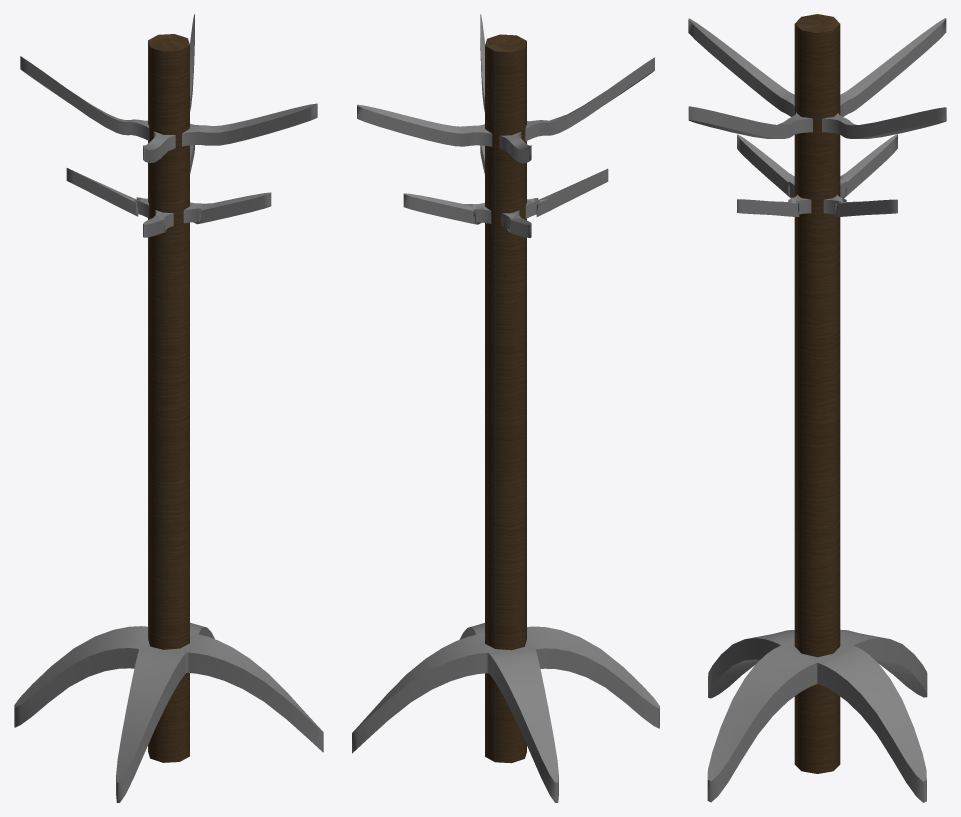
The model's file is Coat rack - Classy.FBX.
The picture shows the model from 3 angles, left to right: view 1: azimuth 30°, elevation 25°; view 2: azimuth 150°, elevation 25°; view 3: azimuth 270°, elevation 25°; orthographic projection. The views are drawn at different scales.
Parts seen in each view (by area): view 1: Cylinder001, Star001, Star003, Star002; view 2: Cylinder001, Star001, Star003, Star002; view 3: Cylinder001, Star001, Star003, Star002.
Part boxes in pixels (left/top/right/bottom): Cylinder001: left=148, top=34, right=189, bottom=762; Star001: left=14, top=622, right=323, bottom=802; Star003: left=20, top=14, right=317, bottom=162; Star002: left=66, top=145, right=271, bottom=237; Cylinder001: left=485, top=34, right=526, bottom=763; Star001: left=352, top=623, right=659, bottom=802; Star003: left=357, top=14, right=654, bottom=163; Star002: left=403, top=145, right=608, bottom=237; Cylinder001: left=794, top=14, right=840, bottom=773; Star001: left=707, top=629, right=927, bottom=802; Star003: left=688, top=18, right=946, bottom=138; Star002: left=737, top=134, right=897, bottom=216.
Size of the model in its own units: 21.24 by 69.86 by 22.06.
Materials: 2 (1 with a texture image).
